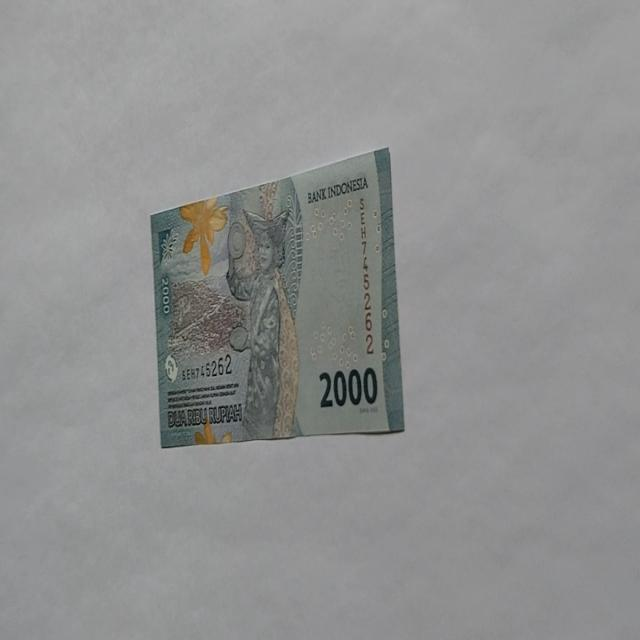dua ribu rupiah: (149, 145, 405, 448), (224, 204, 300, 441)
